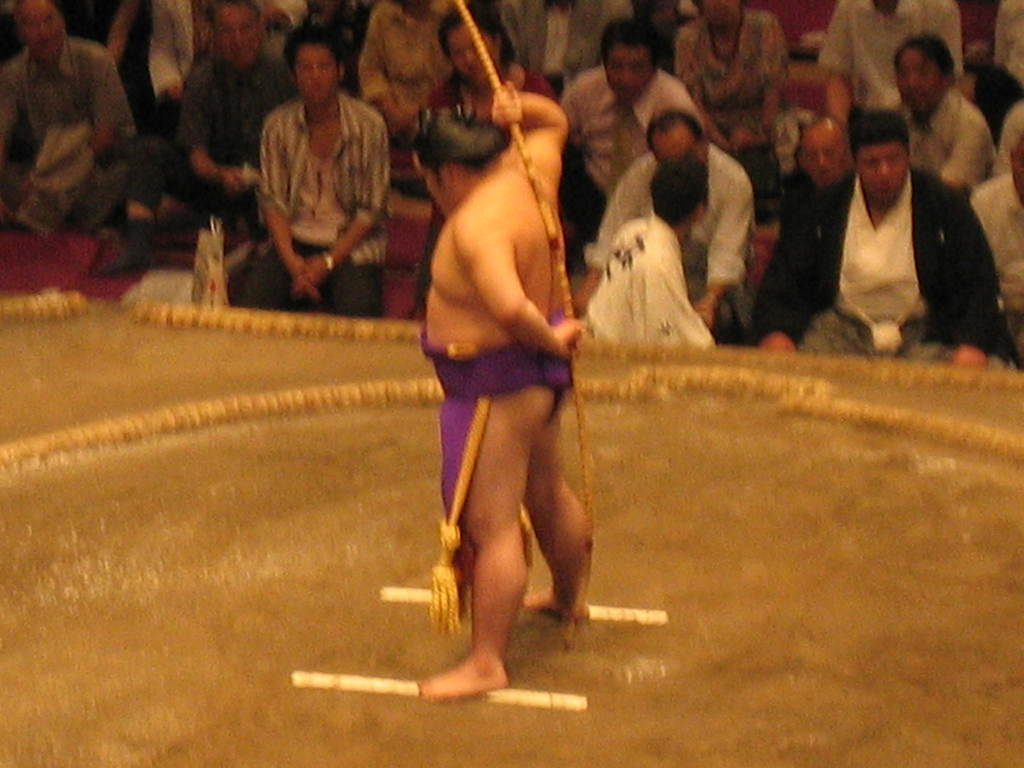Person: (0, 0, 1024, 369)
